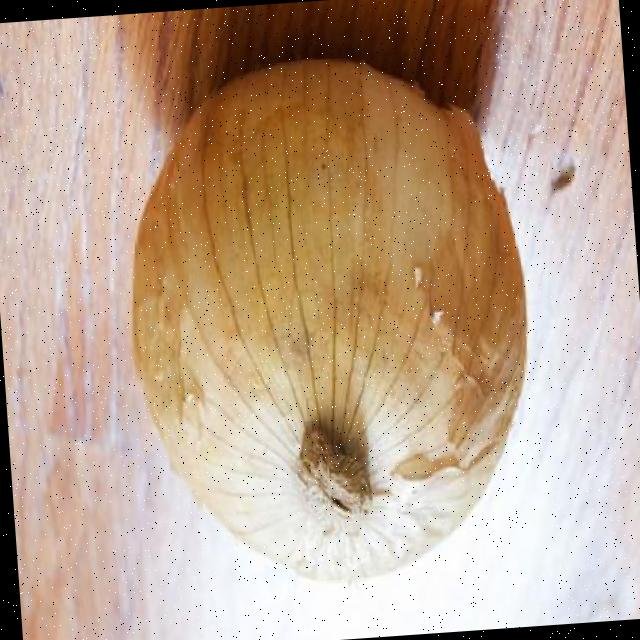Onion: (130, 59, 523, 580)
